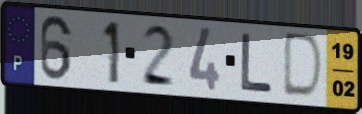1: (100, 19, 122, 86)
2: (137, 24, 179, 88)
4: (186, 25, 222, 95)
6: (38, 13, 75, 82)
D: (280, 31, 326, 103)
L: (239, 31, 276, 94)
